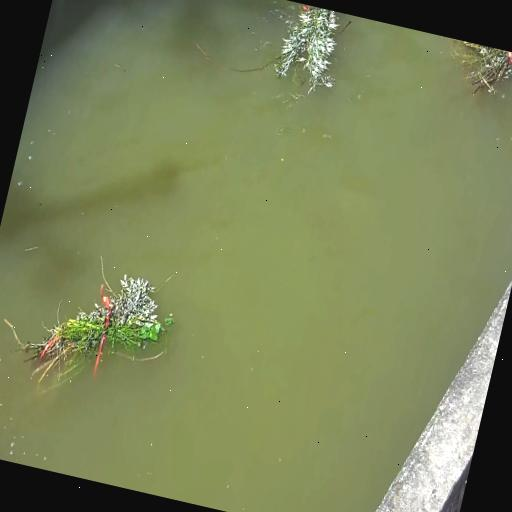twig: (0, 244, 186, 409), (194, 0, 346, 95), (441, 40, 512, 109)
